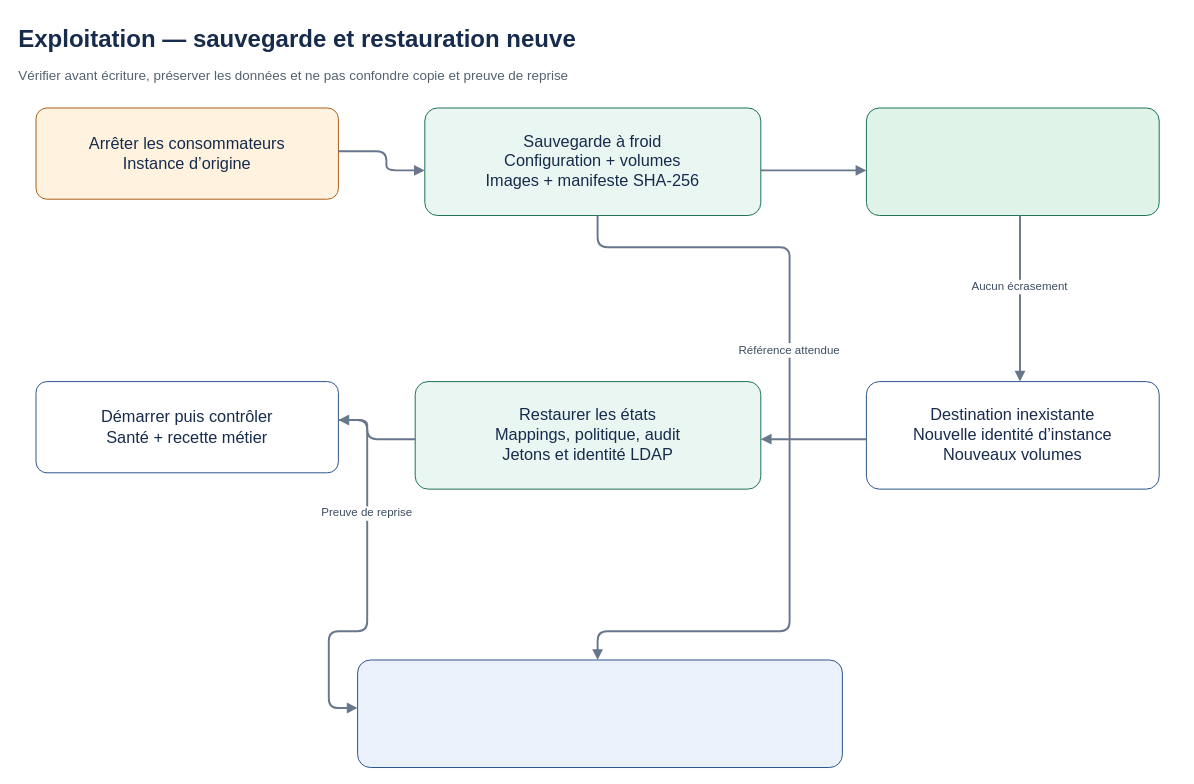
The diagram is 1194 pixels wide and 784 high, and some of its shapes have lost their labels. Here are the shapes that lost their labels. From the top down, the centre of each, then its label:
At [1012,161]: "Vérifier l’intégrité Architecture et chemins Refuser archive corrompue".
At [599,713]: "Comparer les résultats Origine préservée Expiration des jetons inchangée".
